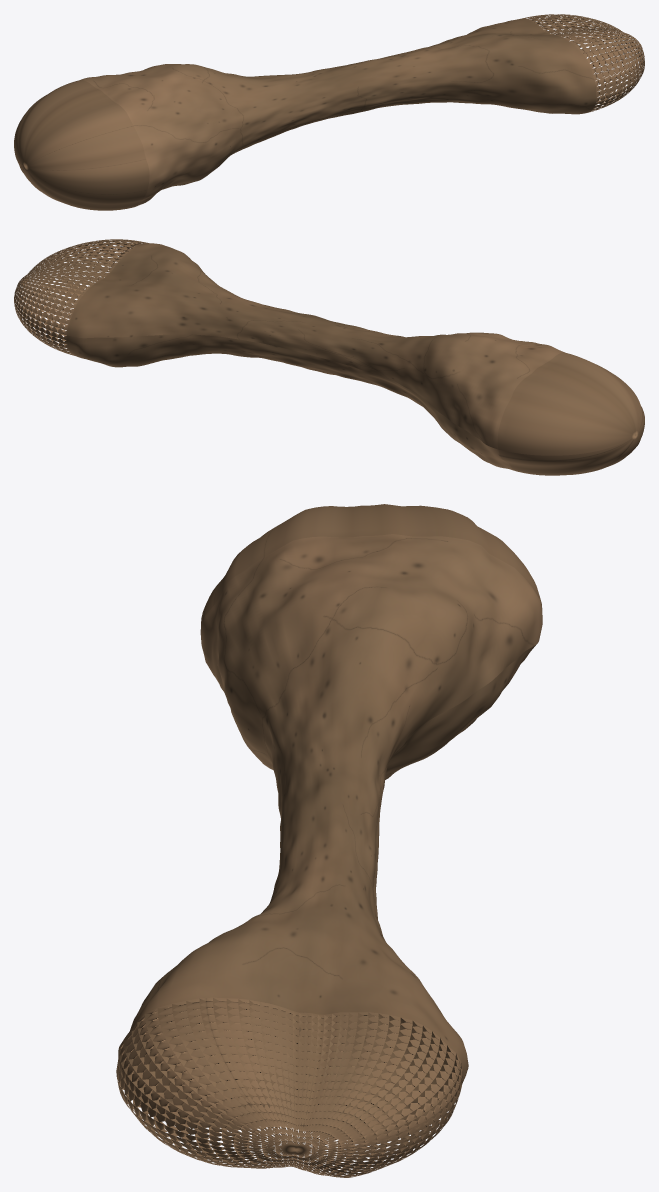
File: Bone_Humerus.glb
3 renders of one model, top to bottom at view 1: azimuth 30°, elevation 25°; view 2: azimuth 150°, elevation 25°; view 3: azimuth 270°, elevation 25°, orthographic. The views are drawn at different scales.
Visible parts, largest first — view 1: Bone_Humerus; view 2: Bone_Humerus; view 3: Bone_Humerus.
Boxes of the visible parts, box(x1,y1,x2,y2) form: Bone_Humerus: box(14, 14, 644, 210); Bone_Humerus: box(14, 239, 644, 475); Bone_Humerus: box(116, 504, 542, 1177).
Size of the model in its own units: 0.26 by 0.0447 by 0.0811.
1 material, 1 textured.
